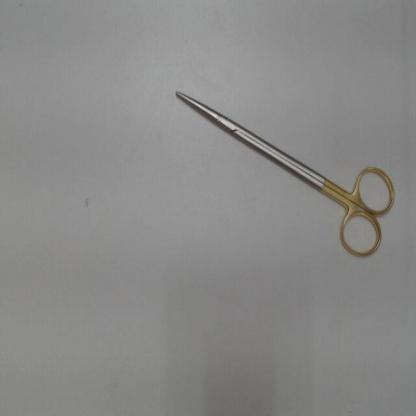7 Metzenbaum Scissors: (172, 86, 399, 264)
